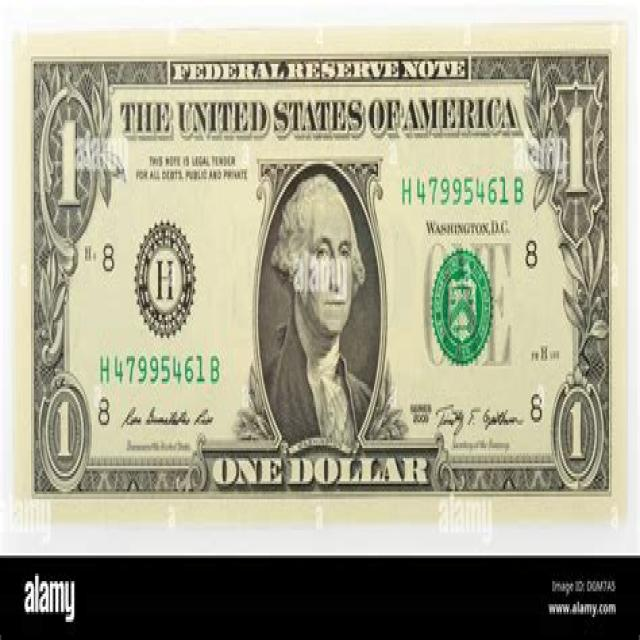One: (12, 23, 626, 520)
